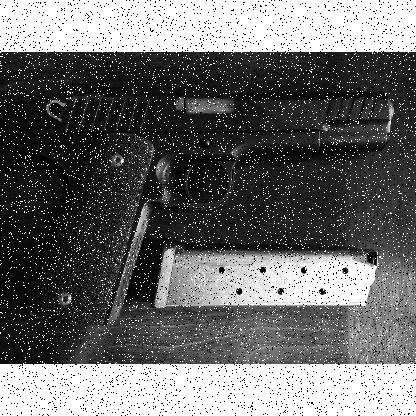gun: (14, 78, 394, 326)
